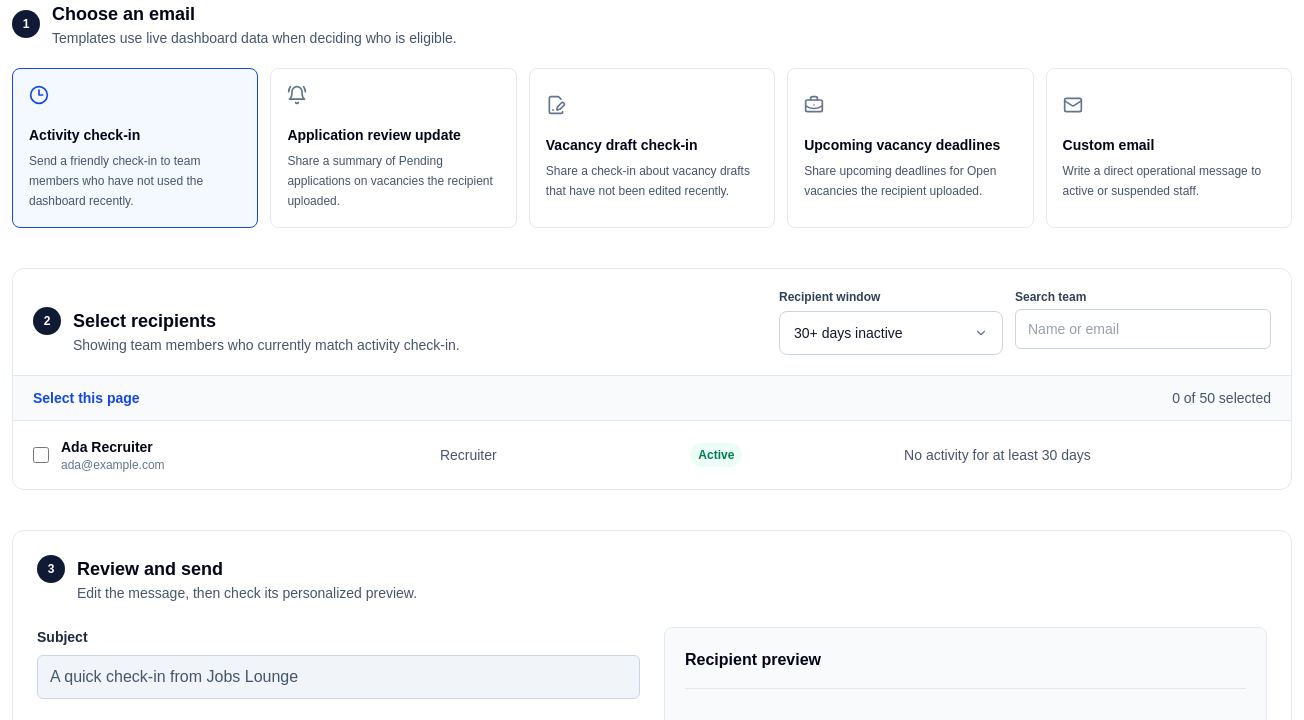
Test case: TeamEmailCenter › unlocks the subject only for custom emails
Check: the field labelled "Subject" is disabled, box [37,655,640,699]
Click the button "Custom email": (1169, 148) [1046,68,1292,228]
(page scrolled)
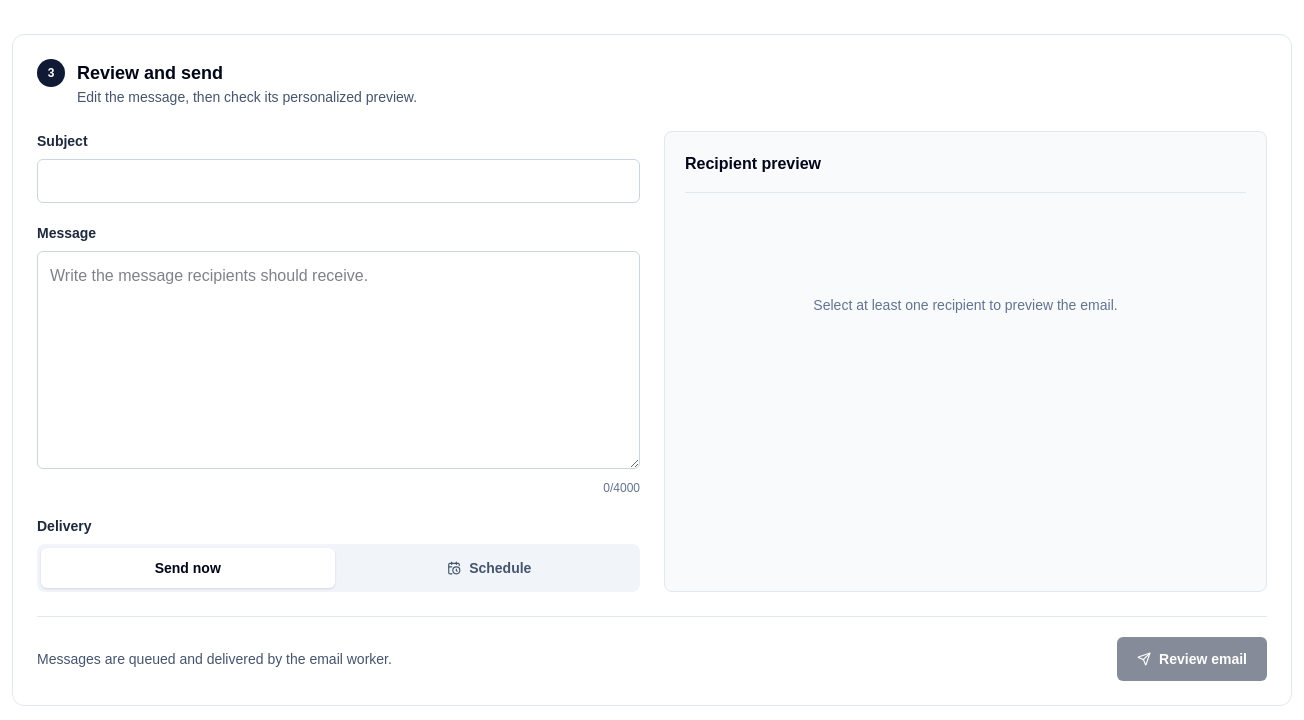
Check: the field labelled "Subject" is enabled, box [37,159,640,203]
Check: the text box labelled "Message" is empty, box [37,251,640,469]
